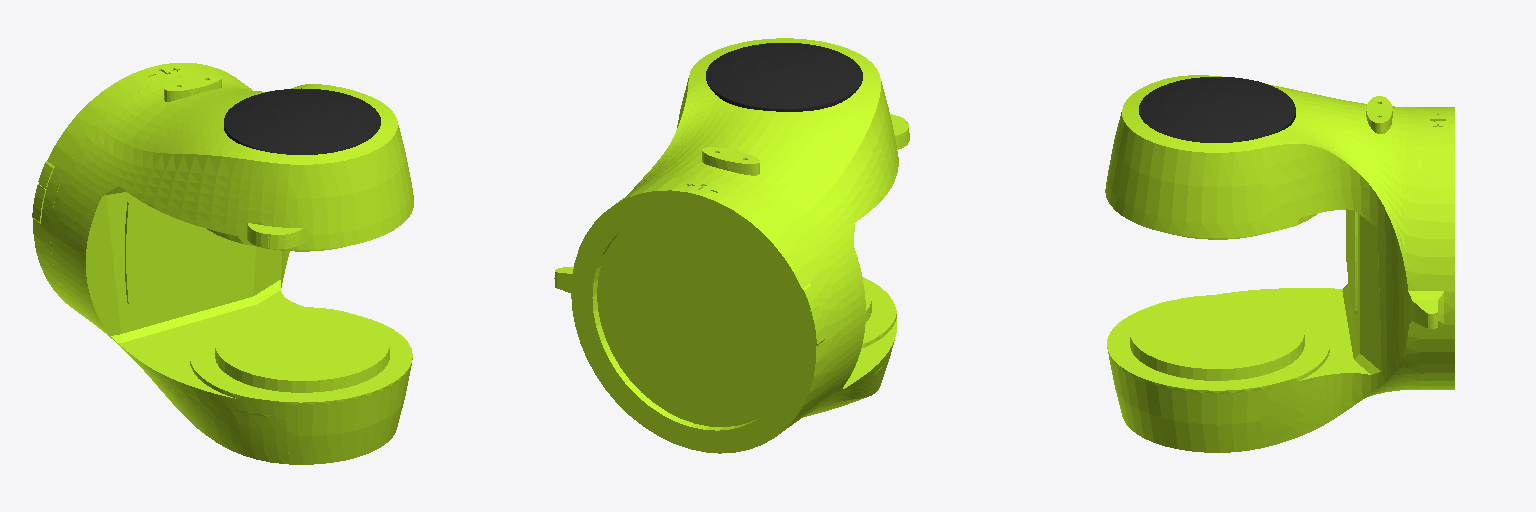
Rendered from kuka_2.obj.
The picture shows the model from 3 angles: view 1: azimuth 30°, elevation 25°; view 2: azimuth 150°, elevation 25°; view 3: azimuth 270°, elevation 25°; orthographic projection.
Parts seen in each view (by area): view 1: 实体1; view 2: 实体1; view 3: 实体1.
Boxes of the visible parts, x1,y1,x2,y2 form: 实体1: [32, 63, 413, 464]; 实体1: [554, 38, 909, 453]; 实体1: [1105, 75, 1454, 452].
Size of the model in its own units: 243 by 276 by 269.